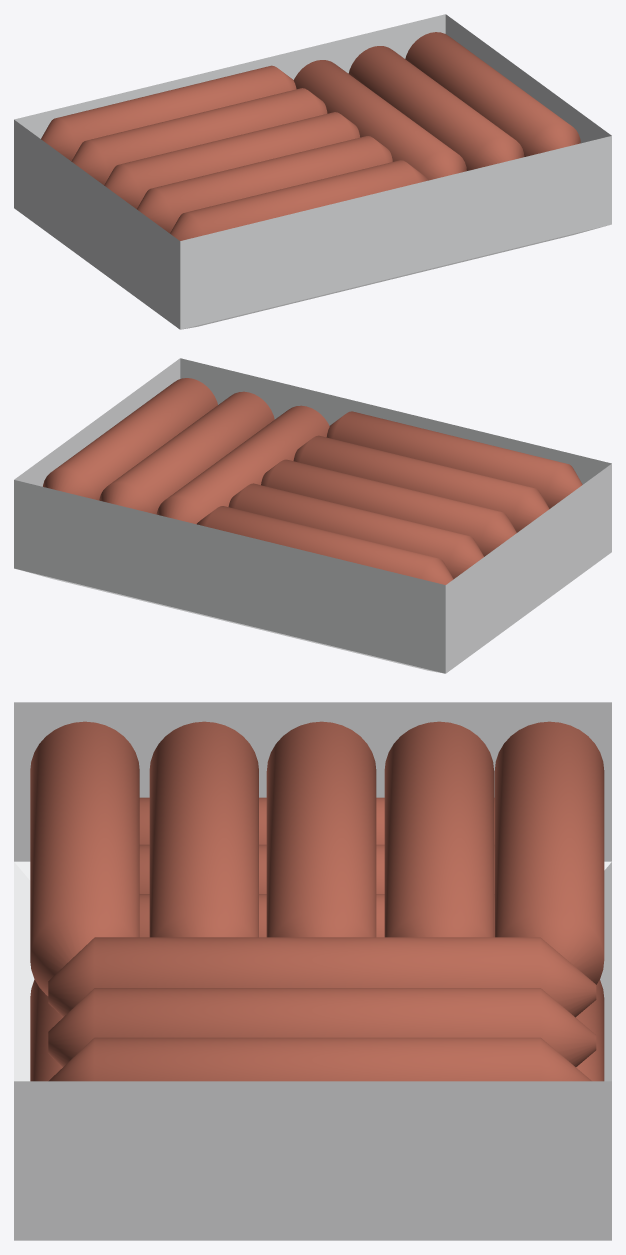
File: sosis.glb
3 views of the same model, one above another, from view 1: azimuth 30°, elevation 25°; view 2: azimuth 150°, elevation 25°; view 3: azimuth 270°, elevation 25° (orthographic). The views are drawn at different scales.
Parts seen in each view (by area): view 1: Cylinder.008; view 2: Cylinder.008; view 3: Cylinder.008.
Part boxes in pixels (x1=…): Cylinder.008: x1=14, y1=14, x2=611, y2=329; Cylinder.008: x1=14, y1=358, x2=611, y2=673; Cylinder.008: x1=14, y1=702, x2=611, y2=1240.
Bounding box in the file's own units: 0.18 × 0.0418 × 0.12.
